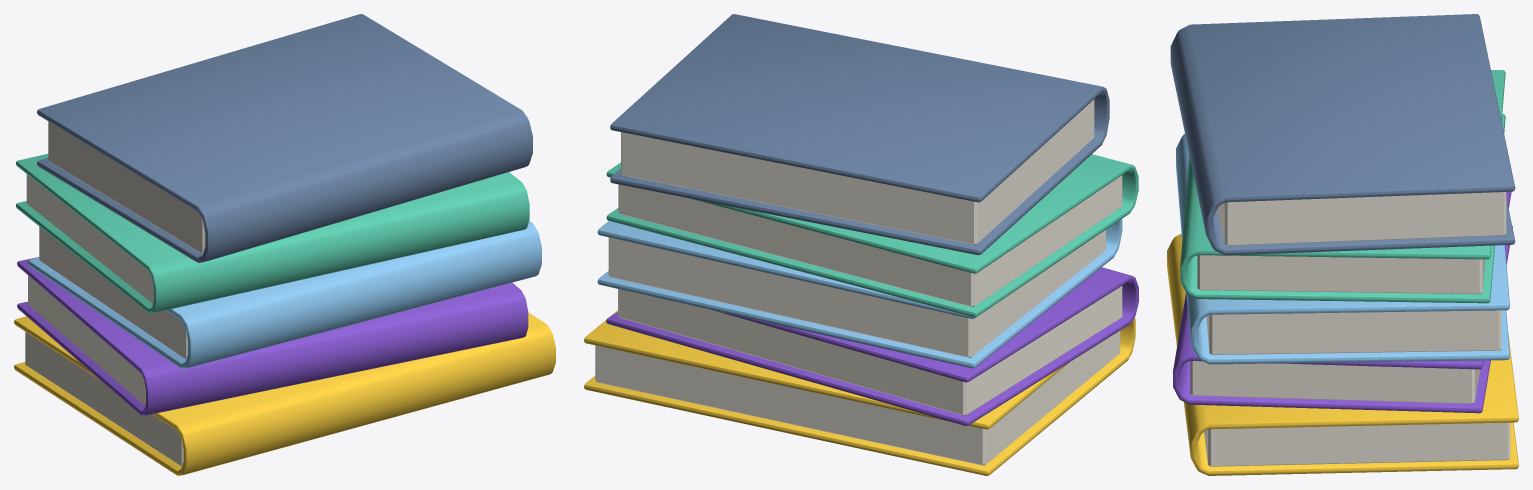
The model's file is livros_pilha_cinco.glb.
The picture shows the model from 3 angles, left to right: view 1: azimuth 30°, elevation 25°; view 2: azimuth 150°, elevation 25°; view 3: azimuth 270°, elevation 25°; orthographic projection. The views are drawn at different scales.
Parts seen in each view (by area): view 1: livros_pilha_cinco; view 2: livros_pilha_cinco; view 3: livros_pilha_cinco.
Part boxes in pixels (x1,y1,x2,y2): livros_pilha_cinco: (14, 14, 555, 475); livros_pilha_cinco: (584, 14, 1138, 475); livros_pilha_cinco: (1167, 14, 1518, 475).
Bounding box in the file's own units: 0.2629 × 0.164 × 0.1922.
1 material, 1 textured.
